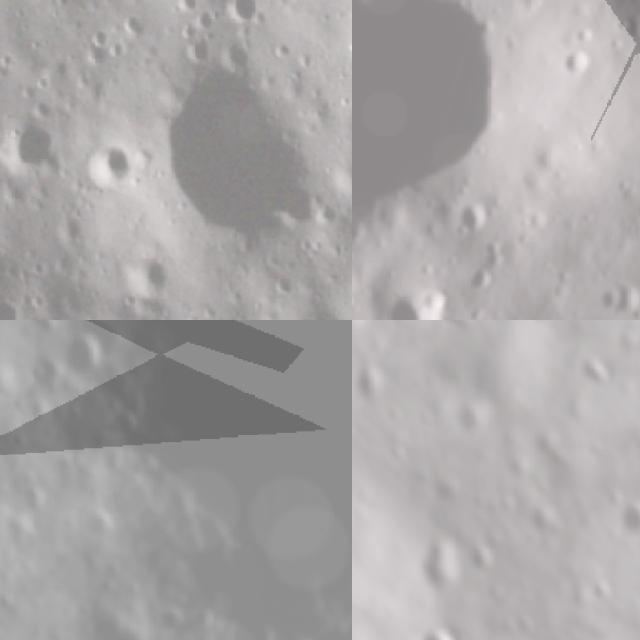crater: (112, 320, 352, 636), (154, 55, 336, 251), (51, 320, 122, 391), (374, 276, 453, 320), (451, 398, 502, 449), (4, 124, 49, 181), (81, 138, 130, 190), (81, 499, 125, 547), (574, 350, 612, 396), (353, 367, 391, 412), (132, 262, 172, 298), (465, 538, 498, 576), (268, 623, 331, 640), (326, 606, 352, 640), (586, 582, 618, 608), (621, 500, 640, 540), (352, 184, 361, 261), (415, 629, 461, 640)
